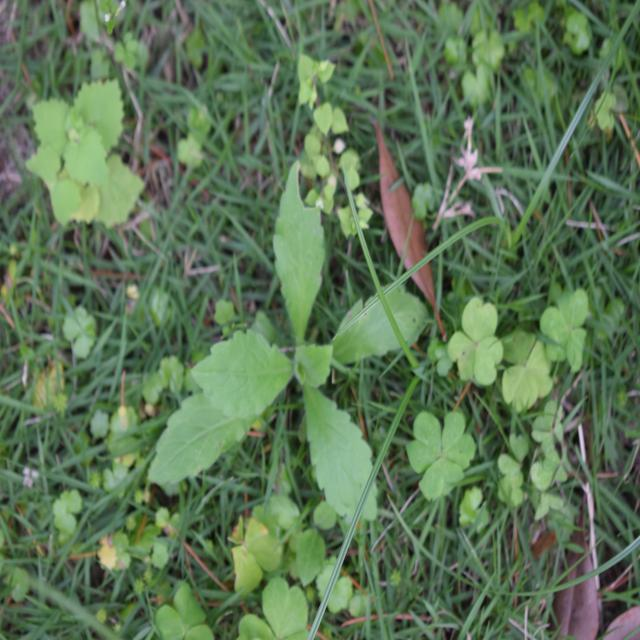horseweed: (162, 242, 408, 548)
